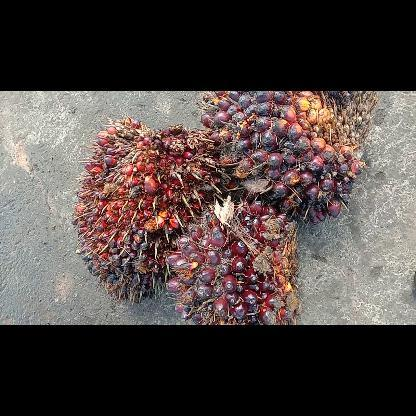Kurang masak: (200, 90, 376, 226), (168, 202, 300, 324)
TBS masak: (72, 118, 220, 298)
